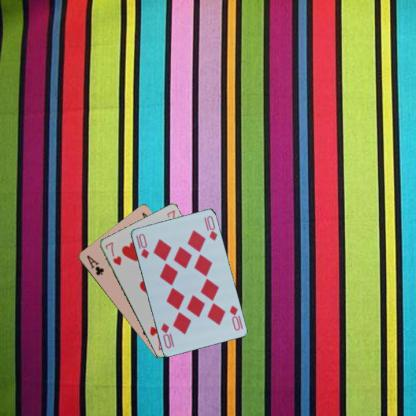10d: (133, 231, 150, 260), (226, 302, 242, 332)
7h: (102, 239, 122, 266)
Ac: (84, 252, 105, 277)
